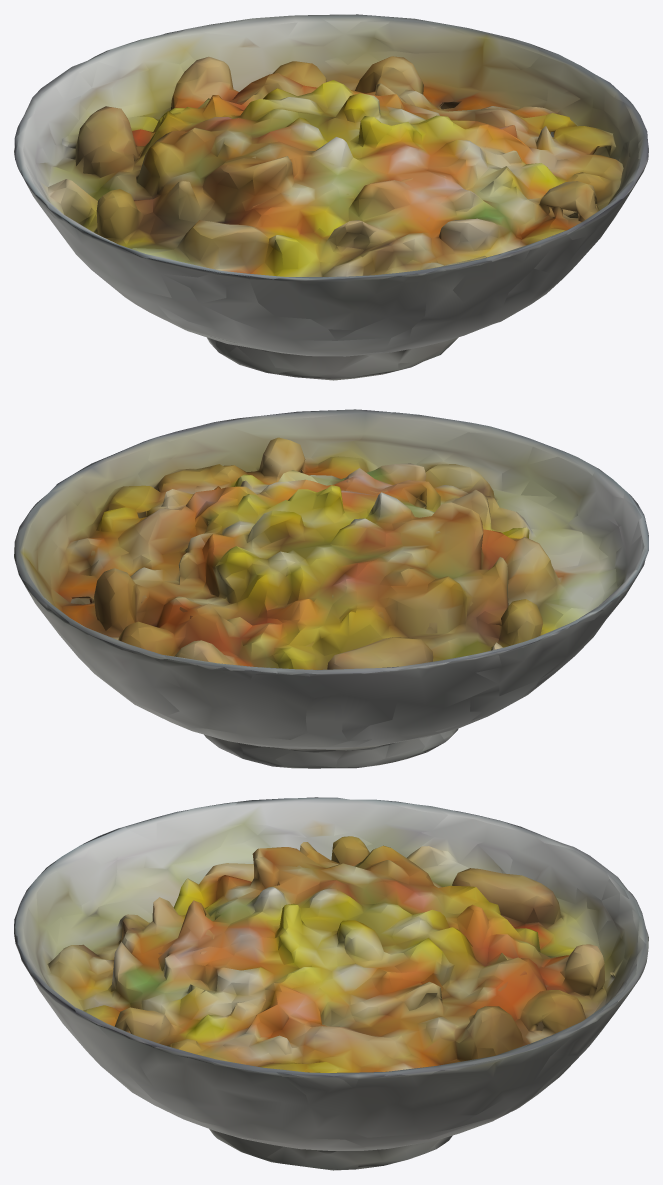
The model's file is 0006_mask_007_mixed_vegetable_salad.glb.
The picture shows the model from 3 angles, top to bottom: view 1: azimuth 30°, elevation 25°; view 2: azimuth 150°, elevation 25°; view 3: azimuth 270°, elevation 25°; orthographic projection. The views are drawn at different scales.
Visible parts, largest first — view 1: mask_007_object; view 2: mask_007_object; view 3: mask_007_object.
Boxes of the visible parts, x1,y1,x2,y2 form: mask_007_object: [14, 14, 648, 380]; mask_007_object: [14, 409, 648, 768]; mask_007_object: [14, 797, 648, 1170].
Size of the model in its own units: 0.4194 by 0.1581 by 0.4157.
